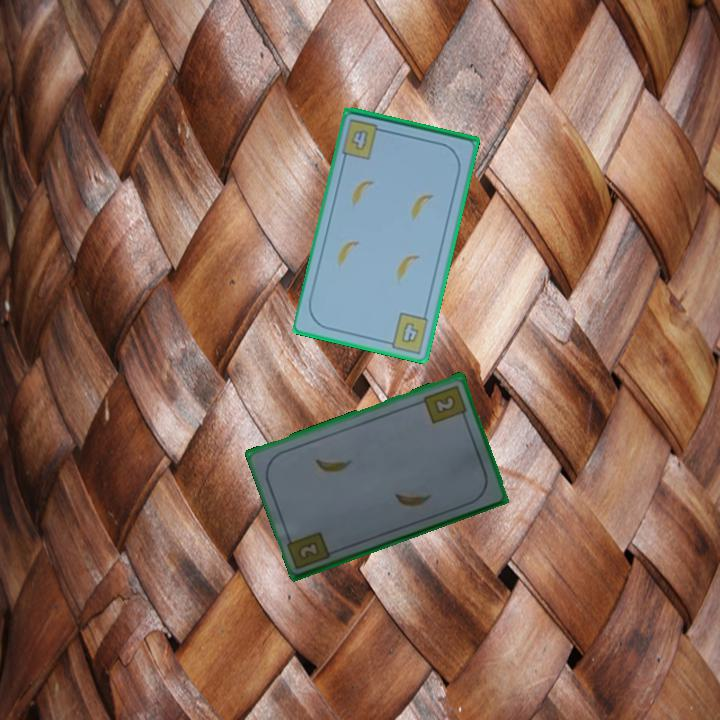2b: (420, 381, 470, 426), (296, 538, 323, 561)
4b: (382, 309, 432, 356), (348, 126, 372, 154)
